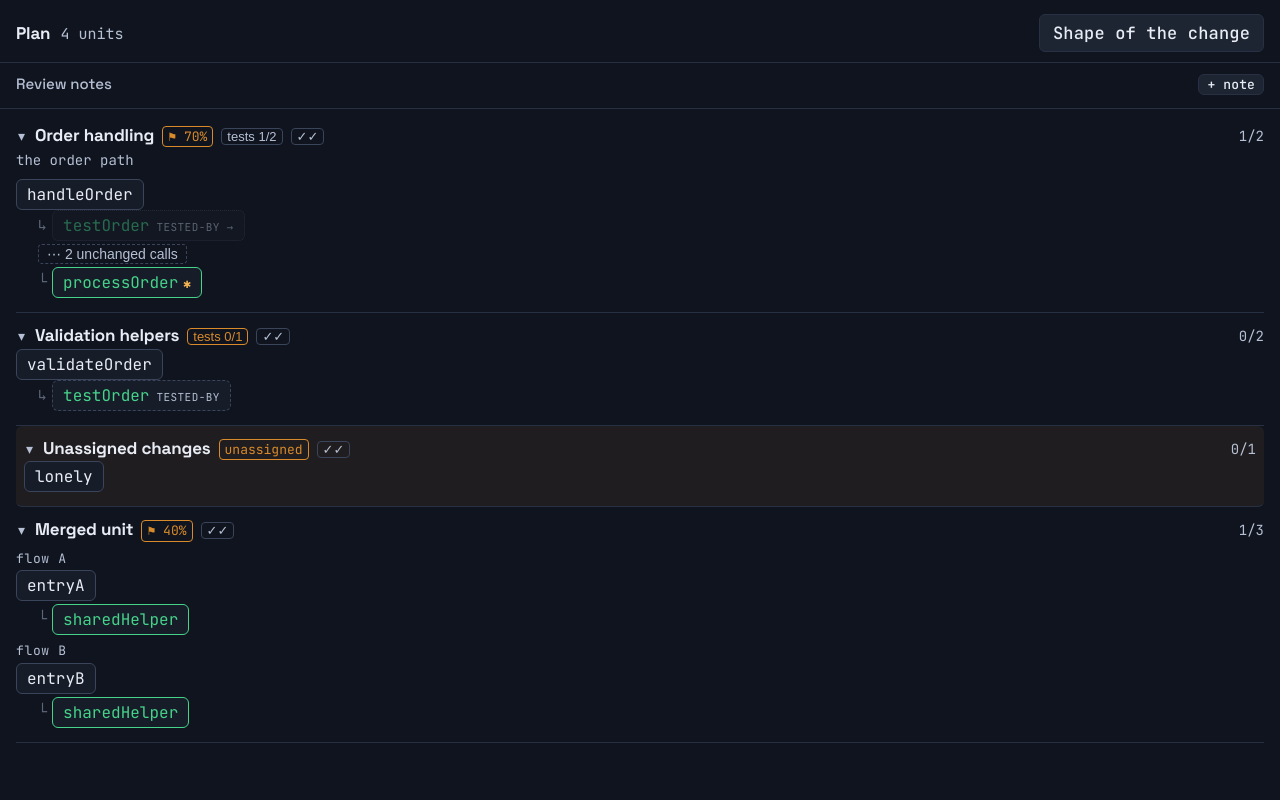
Test: PlanView › collapses and expands a unit via the header chevron
The width and height of the screenshot is (1280, 800).
What coordinates should you click on to do the following:
click the button with test id "unit-collapse" next to "Order handling"
I would click on:
 (22, 136)
Its box is [16, 128, 27, 144].
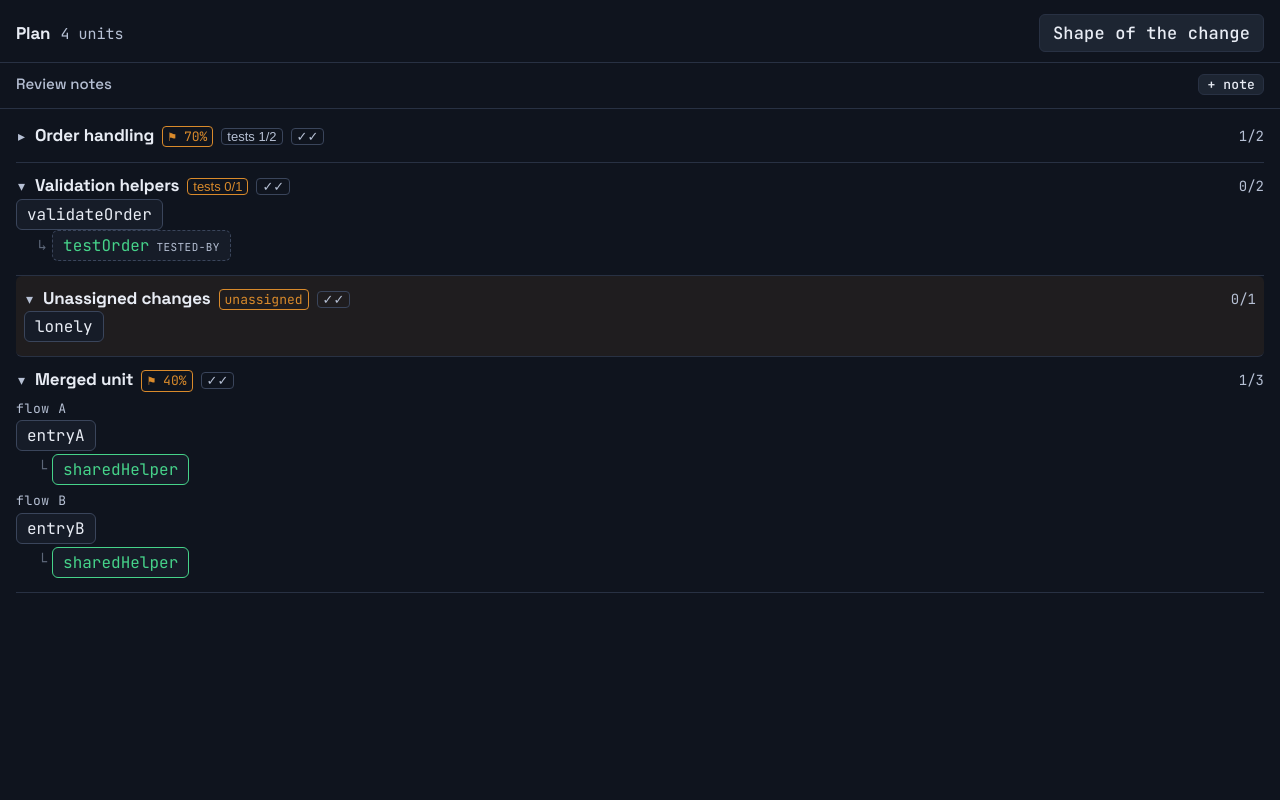
Expected: the button "handleOrder" is gone
What coordinates should you click on to do the following:
click the button with test id "unit-collapse" showing "▸"
I would click on:
 (22, 136)
Its box is [16, 128, 27, 144].
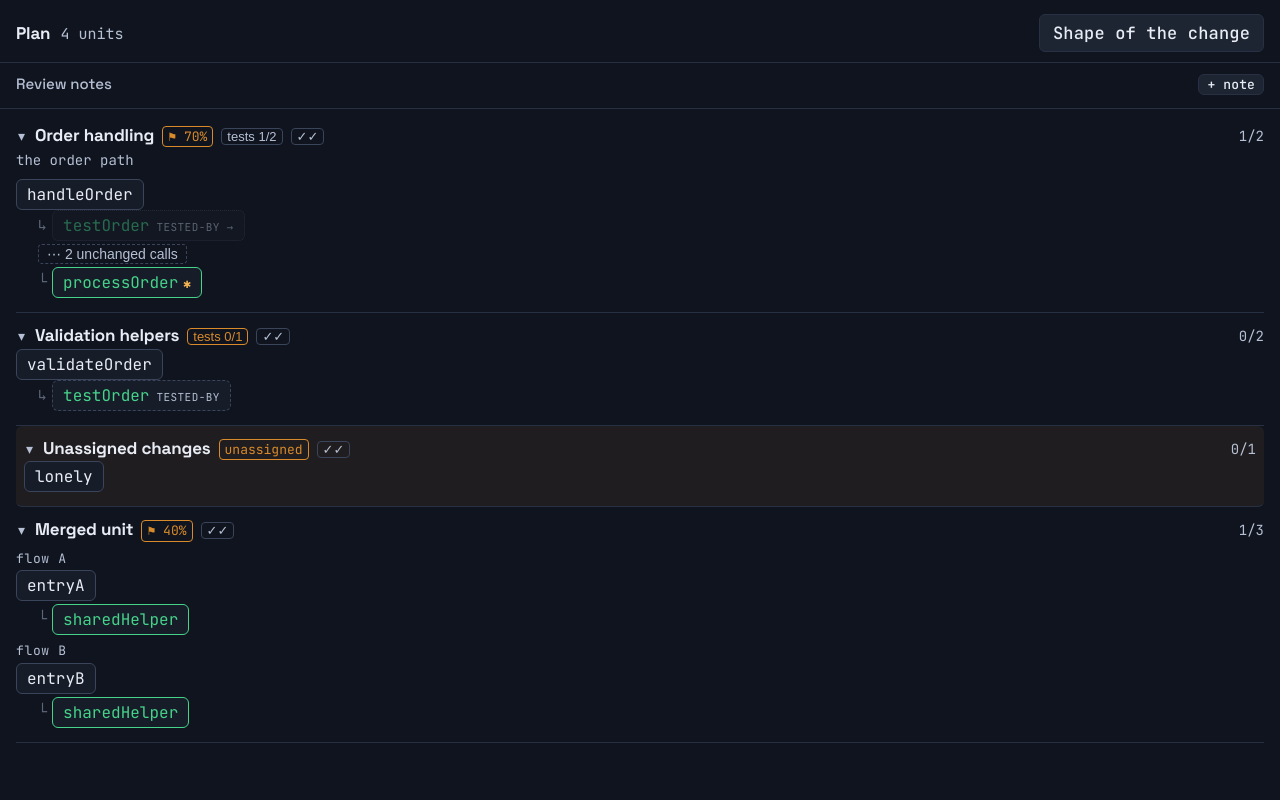
Expected: the button "handleOrder" is shown, [16, 179, 144, 210]
